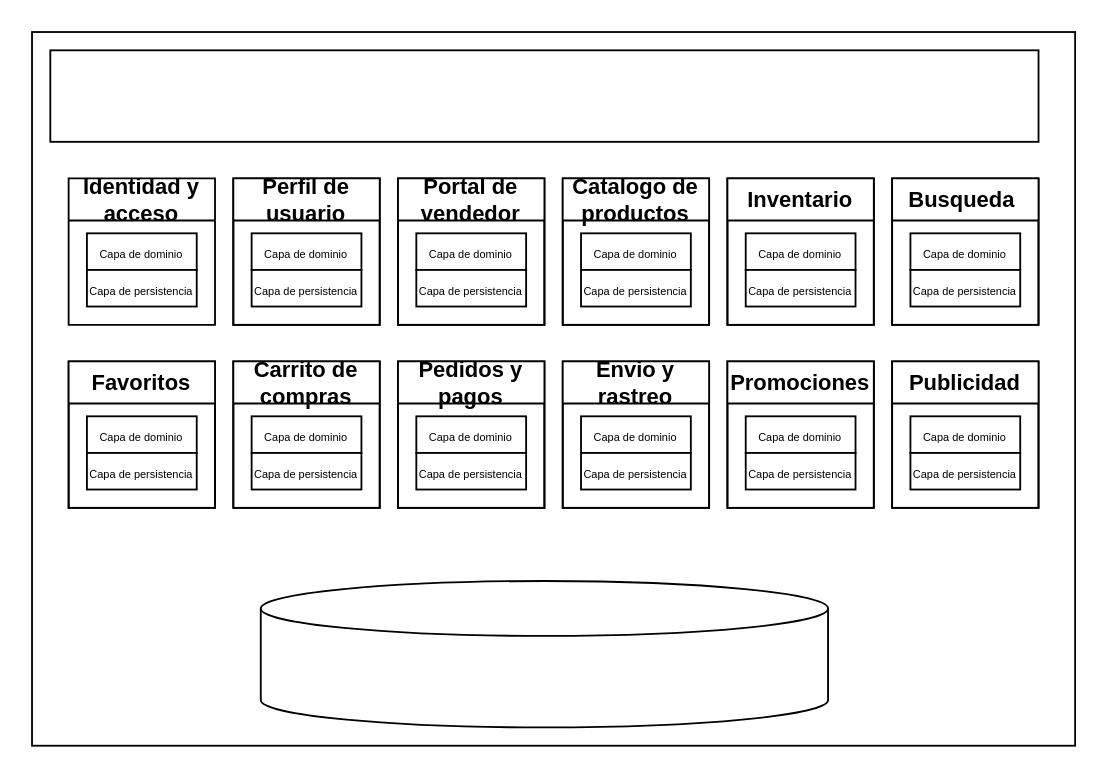
Some shapes in this 1107 by 778 pixel diagram are drawn without their labels. The shapes that lost their labels are listed below. From the top down, each one's centre as x and y in pixels, then its label:
(x=543, y=95): Front End
(x=543, y=653): Base de datos conjunta
